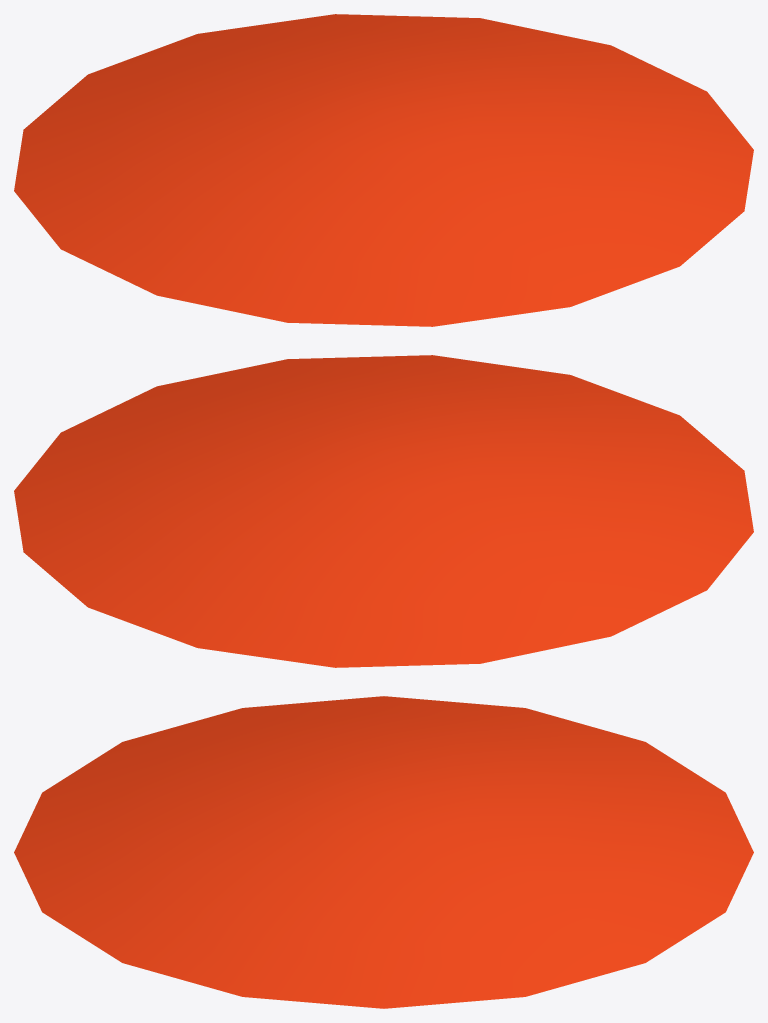
The model's file is salad.FBX.
The picture shows the model from 3 angles, top to bottom: view 1: azimuth 30°, elevation 25°; view 2: azimuth 150°, elevation 25°; view 3: azimuth 270°, elevation 25°; orthographic projection.
Visible parts, largest first — view 1: Object235; view 2: Object235; view 3: Object235.
Part boxes in pixels (x1=…): Object235: x1=14, y1=14, x2=753, y2=326; Object235: x1=14, y1=355, x2=753, y2=667; Object235: x1=14, y1=696, x2=753, y2=1008.
Bounding box in the file's own units: 1.57 × 0.1402 × 1.57.
